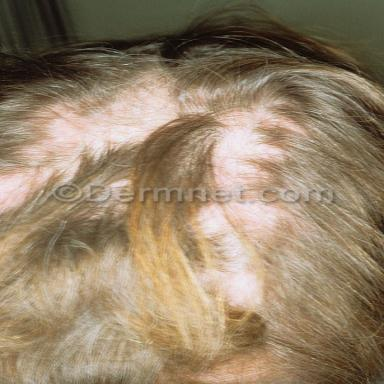Lupus-Erythematosus-Chronicus-Discoides: (0, 73, 207, 211), (194, 202, 281, 307), (212, 99, 309, 187)
